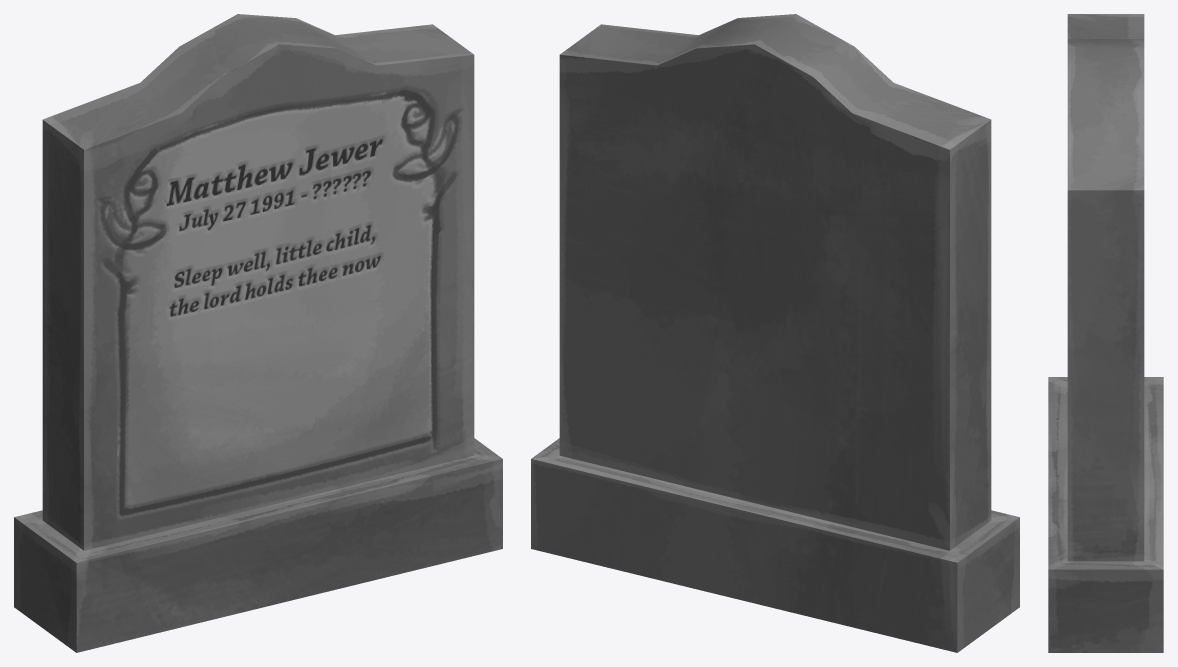
Rendered from MatthewGrave_Geo.fbx.
The picture shows the model from 3 angles, left to right: view 1: azimuth 30°, elevation 25°; view 2: azimuth 150°, elevation 25°; view 3: azimuth 270°, elevation 25°; orthographic projection. The views are drawn at different scales.
Visible parts, largest first — view 1: MatthewGrave_Geo; view 2: MatthewGrave_Geo; view 3: MatthewGrave_Geo.
Part boxes in pixels (left/top/right/bottom): MatthewGrave_Geo: left=14, top=14, right=502, bottom=652; MatthewGrave_Geo: left=531, top=14, right=1019, bottom=652; MatthewGrave_Geo: left=1048, top=14, right=1163, bottom=652.
Size of the model in its own units: 87.36 by 107 by 22.14.
